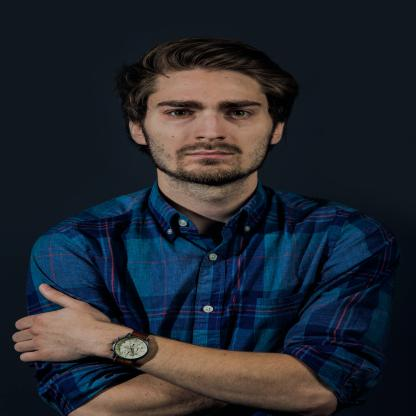Eye: (162, 107, 198, 119), (222, 108, 254, 120)
Mouth: (184, 147, 234, 161)
Nose: (195, 114, 227, 141)
